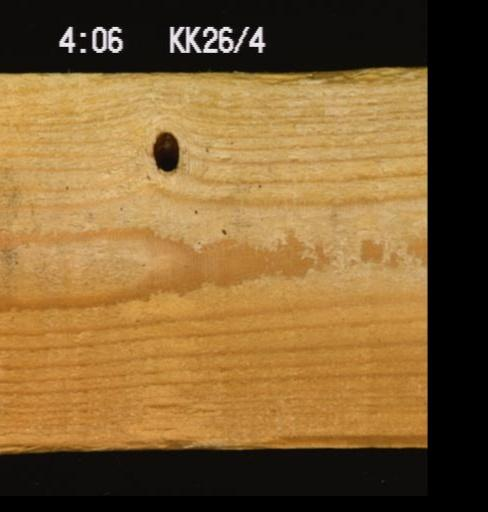wave: (219, 66, 426, 90), (248, 426, 425, 446), (121, 426, 205, 446)
